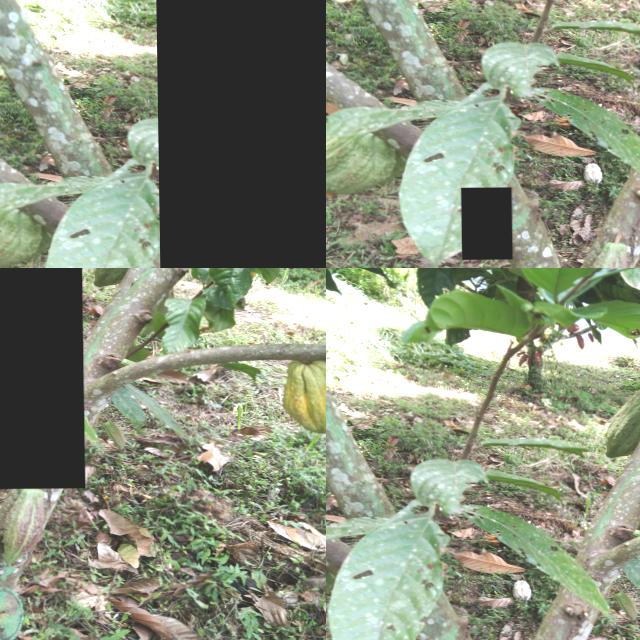Sana: (155, 0, 326, 268), (242, 451, 326, 528), (460, 188, 511, 260), (604, 375, 640, 458), (602, 175, 640, 244), (346, 124, 389, 183), (439, 56, 490, 88), (448, 99, 479, 119), (573, 243, 596, 255), (468, 16, 483, 29), (498, 66, 512, 78), (482, 12, 496, 24), (450, 199, 458, 217), (486, 22, 498, 32), (569, 239, 584, 245), (477, 22, 483, 33), (480, 45, 485, 58), (460, 25, 465, 34)
